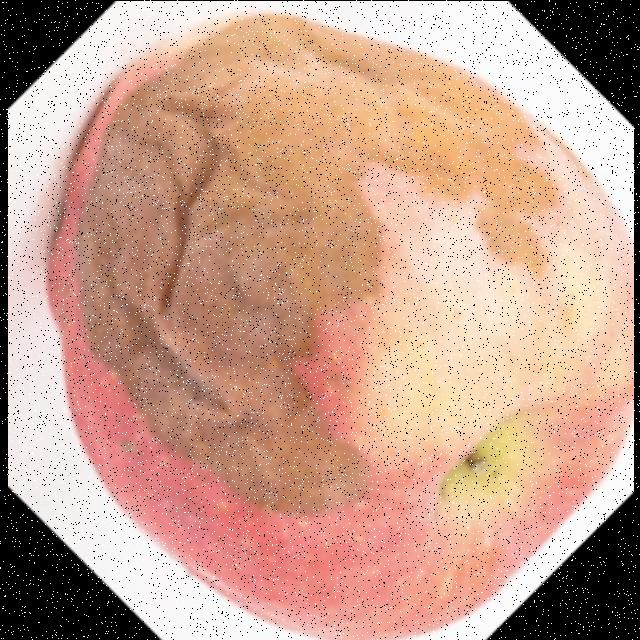Apel Tidak Segar: (22, 5, 632, 633)
